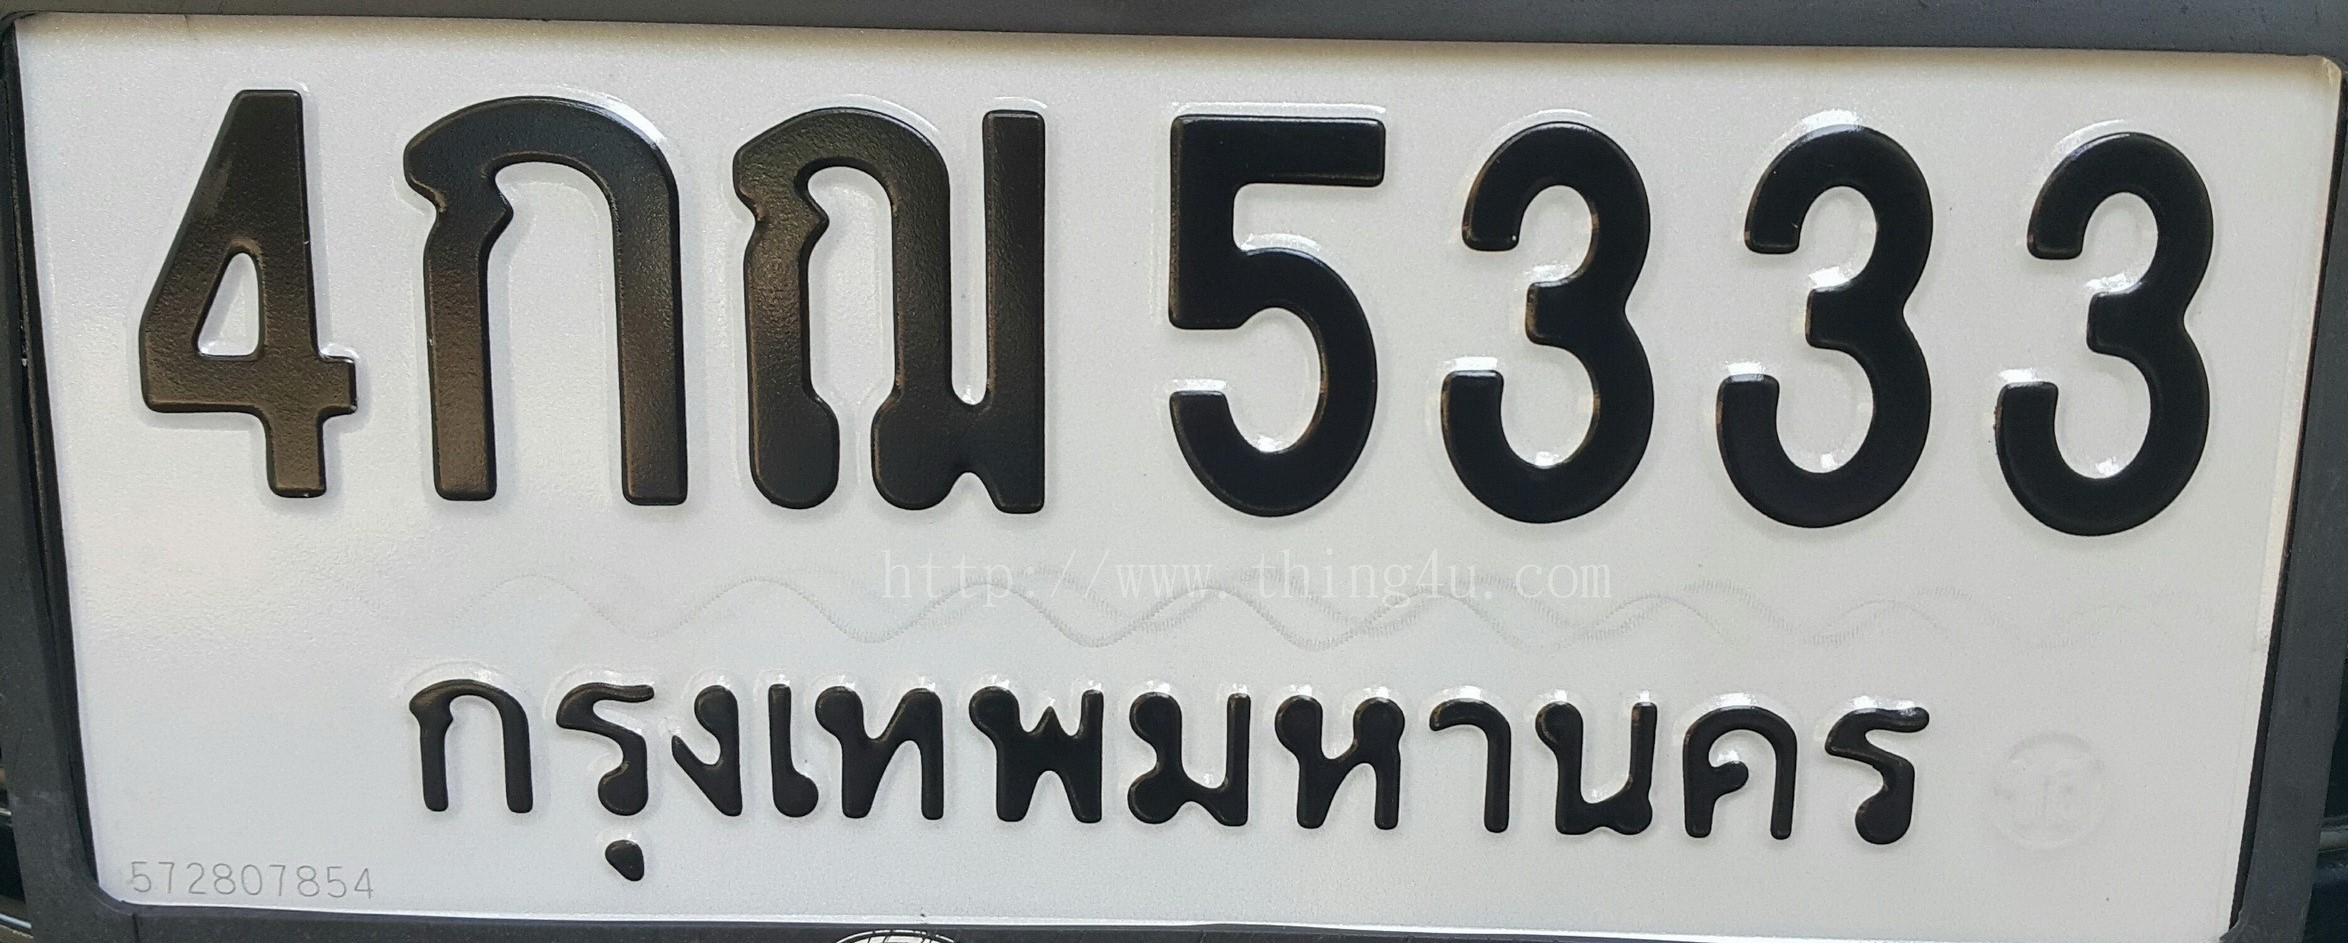num4: (124, 75, 373, 509)
txt01: (388, 85, 702, 518)
txt09: (723, 94, 1062, 524)
